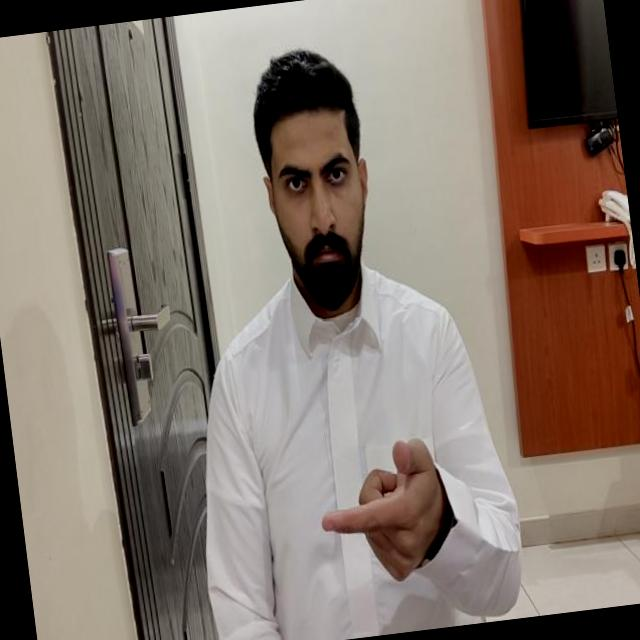dispensing: (312, 433, 454, 590)
